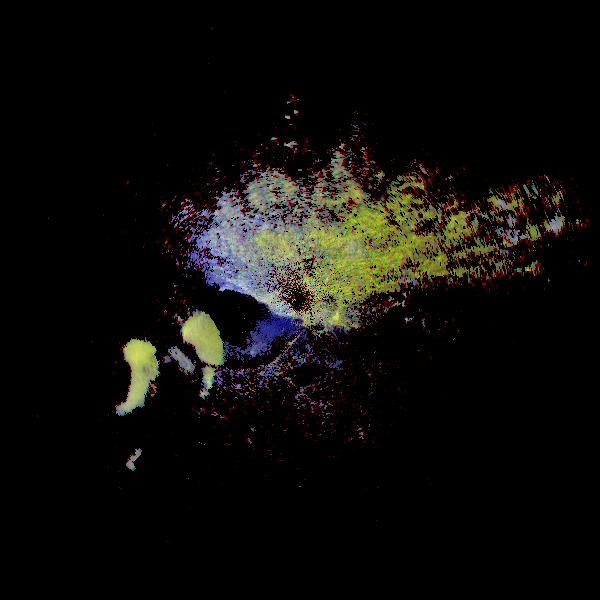roost: (55, 322, 160, 427), (126, 301, 228, 403)
